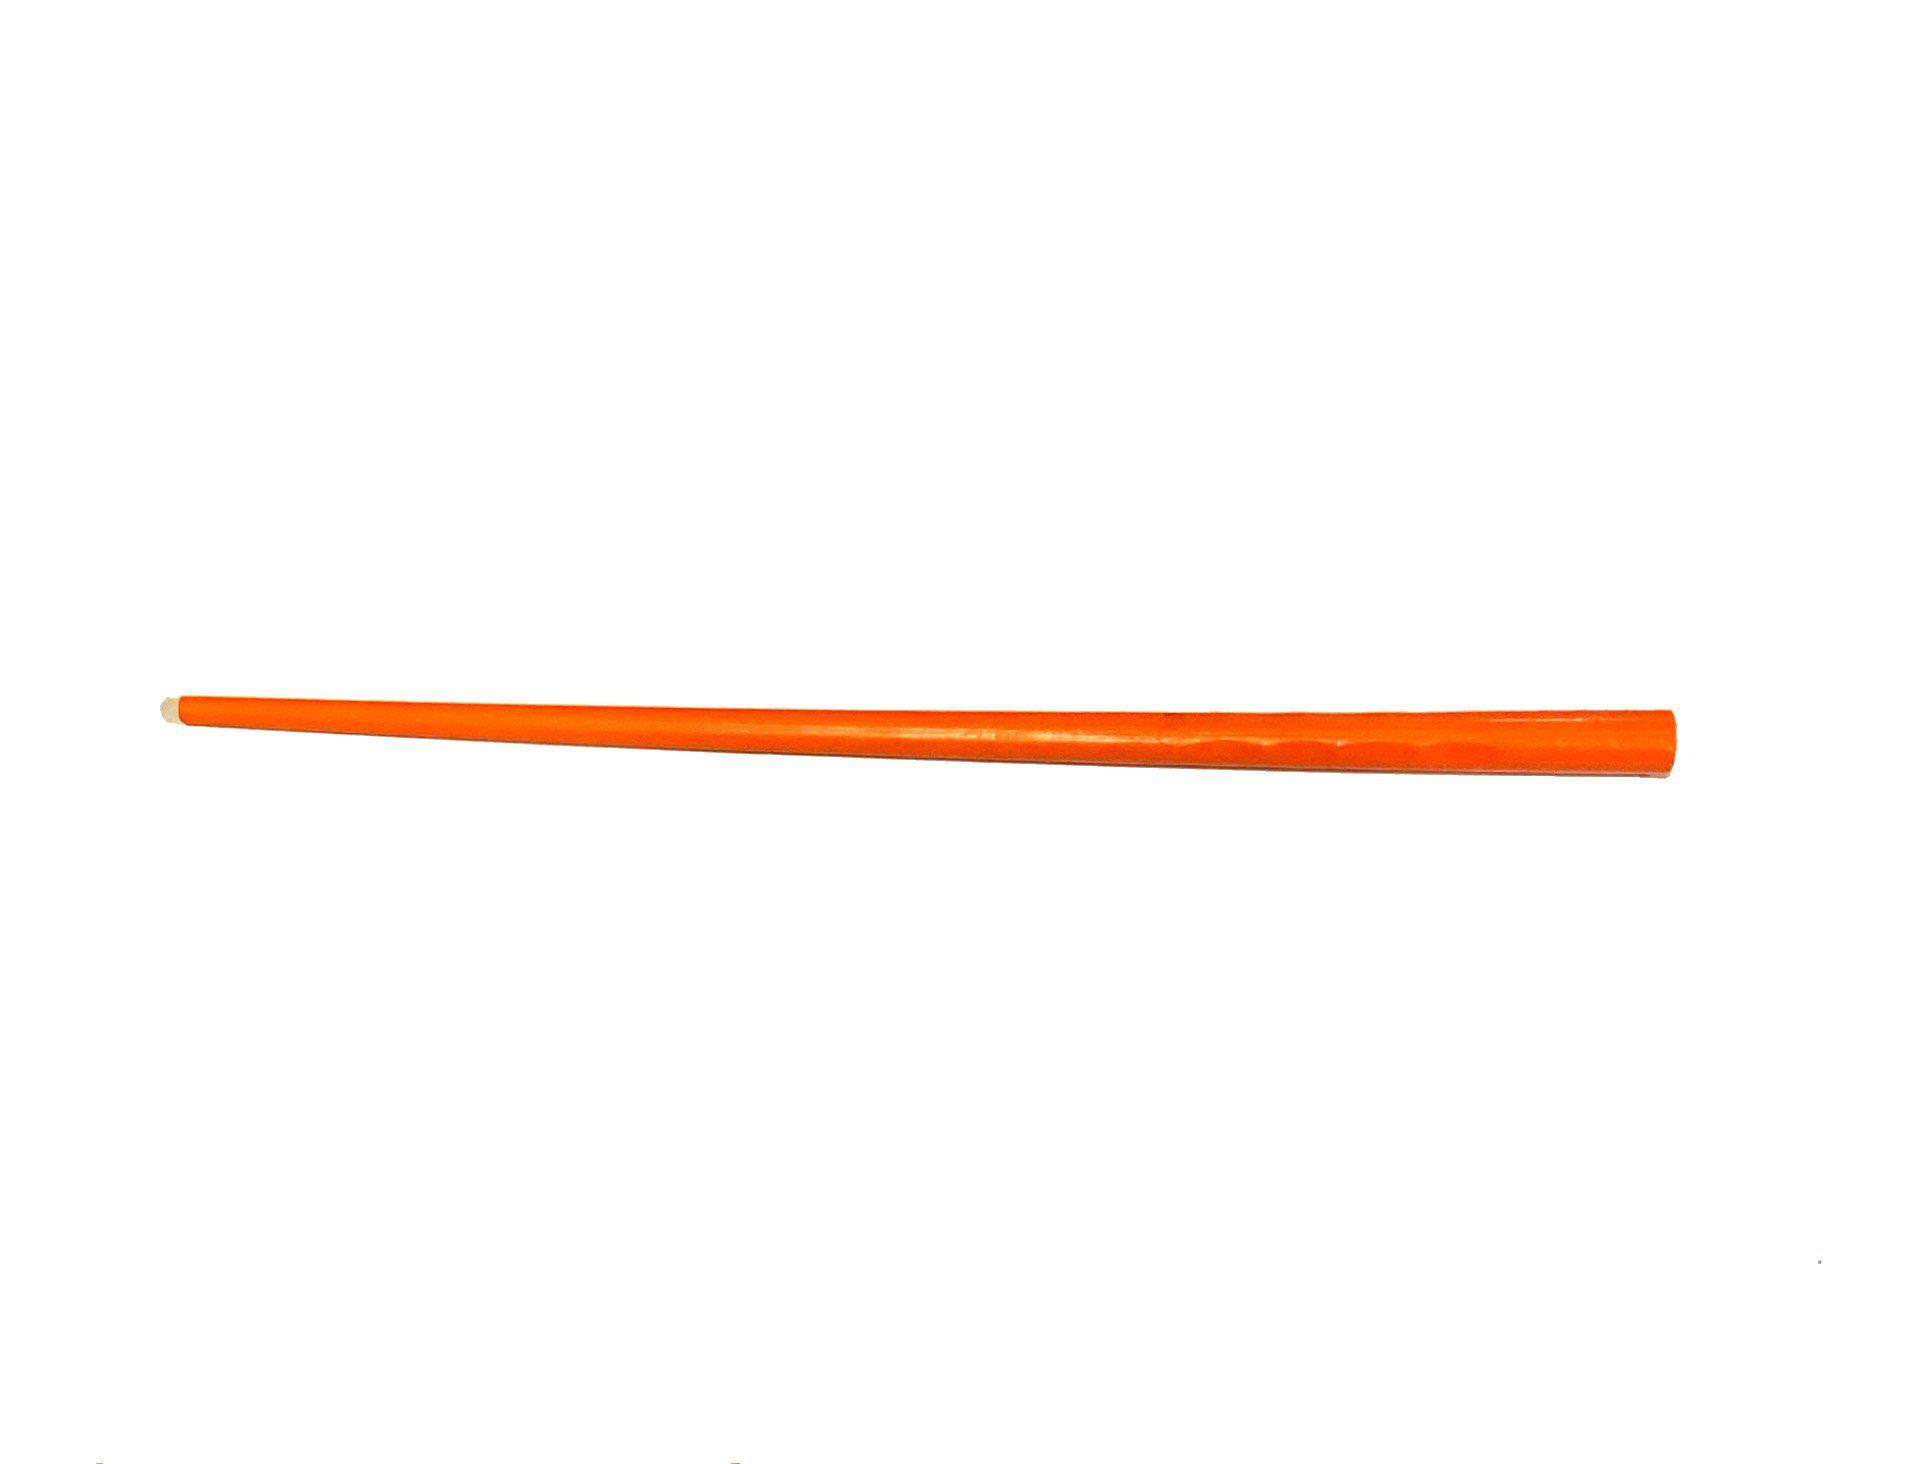Chopstick: (125, 667, 1749, 833)
